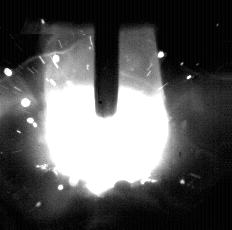arame: (95, 0, 119, 119)
poca: (43, 0, 170, 230)
